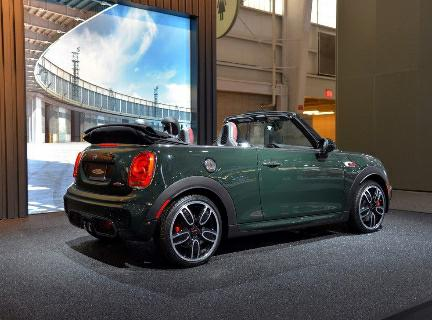MINI-JCW: (54, 115, 398, 271)
